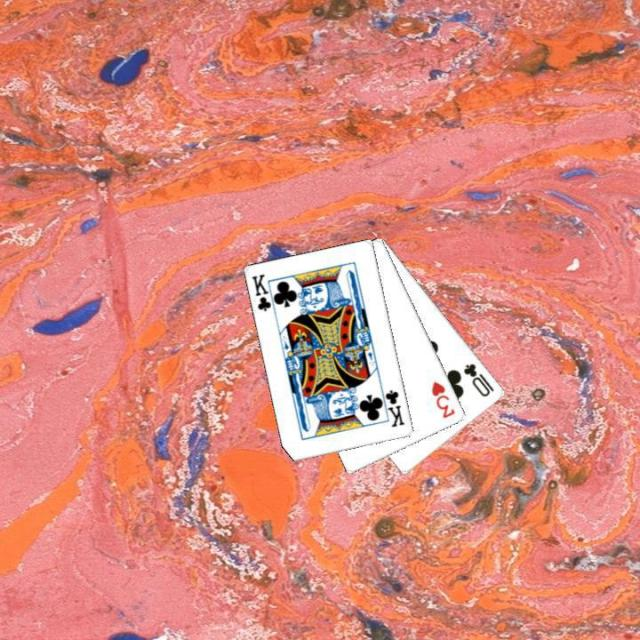10C: (460, 359, 496, 399)
3H: (427, 378, 457, 420)
KC: (248, 270, 278, 316), (377, 384, 406, 429)
